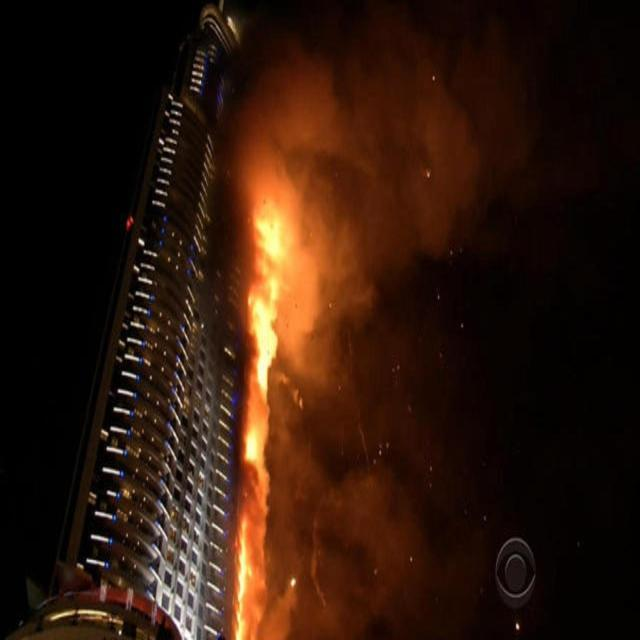Fire: (234, 193, 292, 640)
Smoke: (236, 42, 484, 342), (275, 346, 423, 640)
